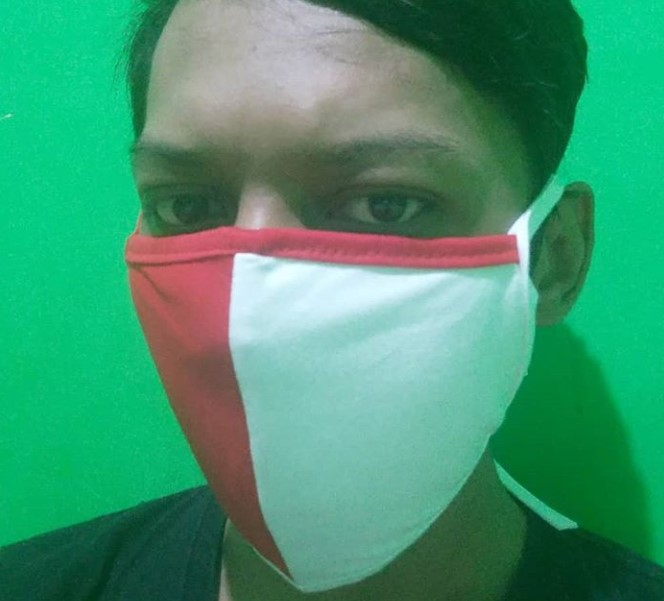face_with_mask: (115, 4, 595, 596)
